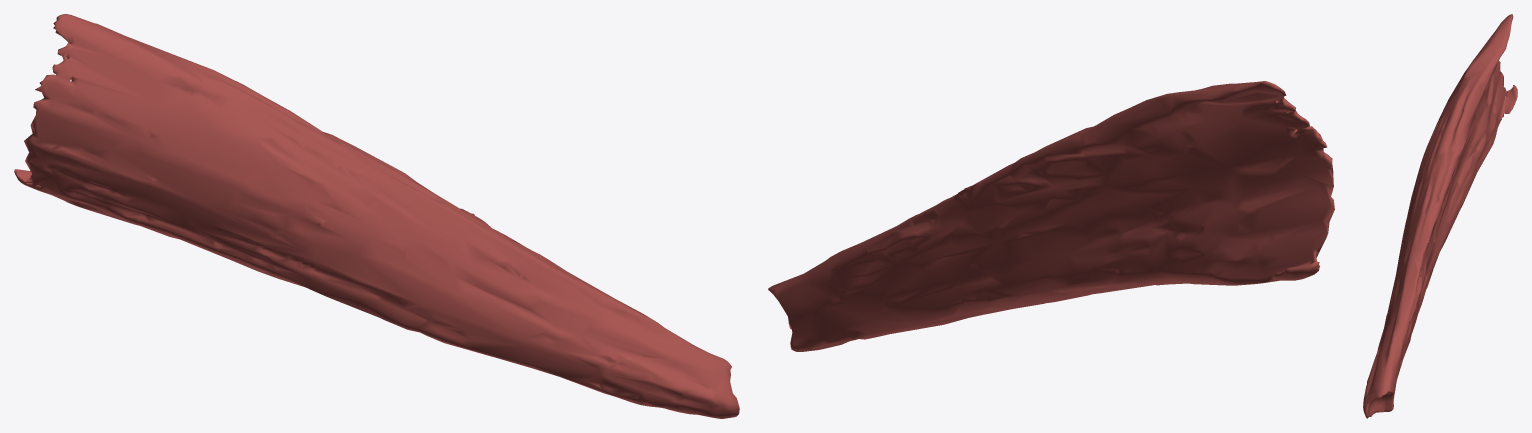
Rendered from FMA65199.glb.
3 renders of one model, left to right at view 1: azimuth 30°, elevation 25°; view 2: azimuth 150°, elevation 25°; view 3: azimuth 270°, elevation 25°, orthographic. The views are drawn at different scales.
Visible parts, largest first — view 1: FMA65199; view 2: FMA65199; view 3: FMA65199.
Part boxes in pixels (x1,y1,x2,y2): FMA65199: (14,14,739,418); FMA65199: (768,81,1334,351); FMA65199: (1363,14,1517,418).
Size of the model in its own units: 0.0422 by 0.0298 by 0.0165.
